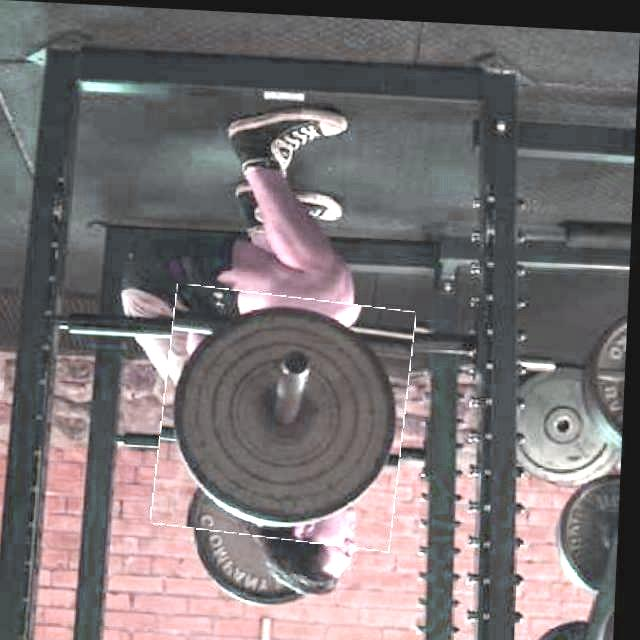barbell: (160, 286, 415, 545)
